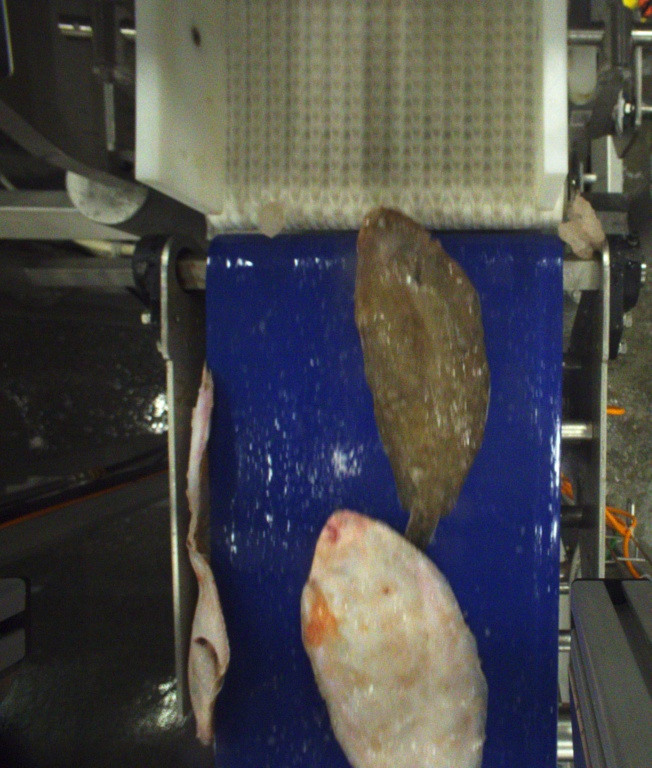SOL: (355, 211, 494, 557)
